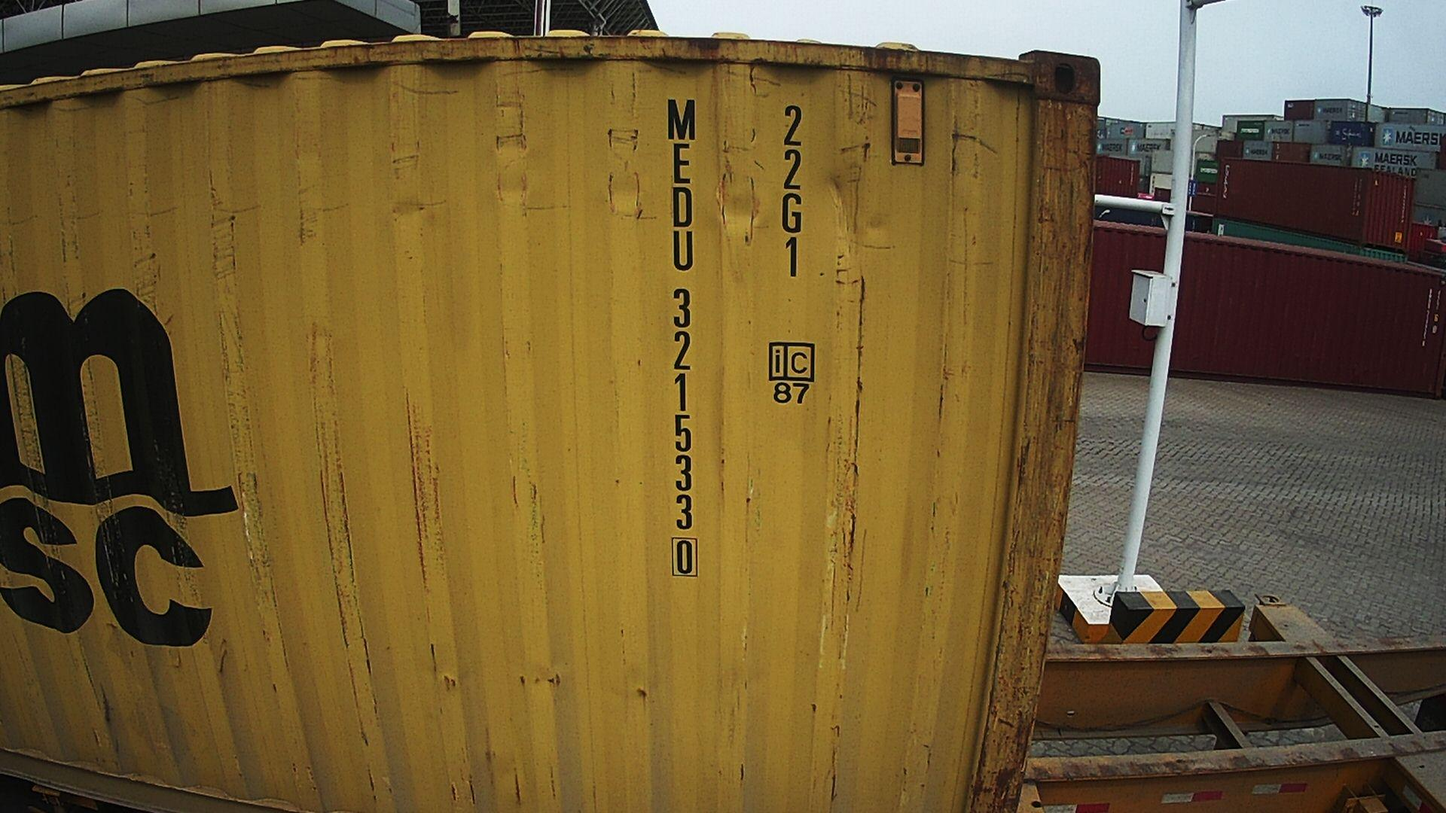container-numbers: (658, 90, 703, 583), (776, 101, 810, 282)
